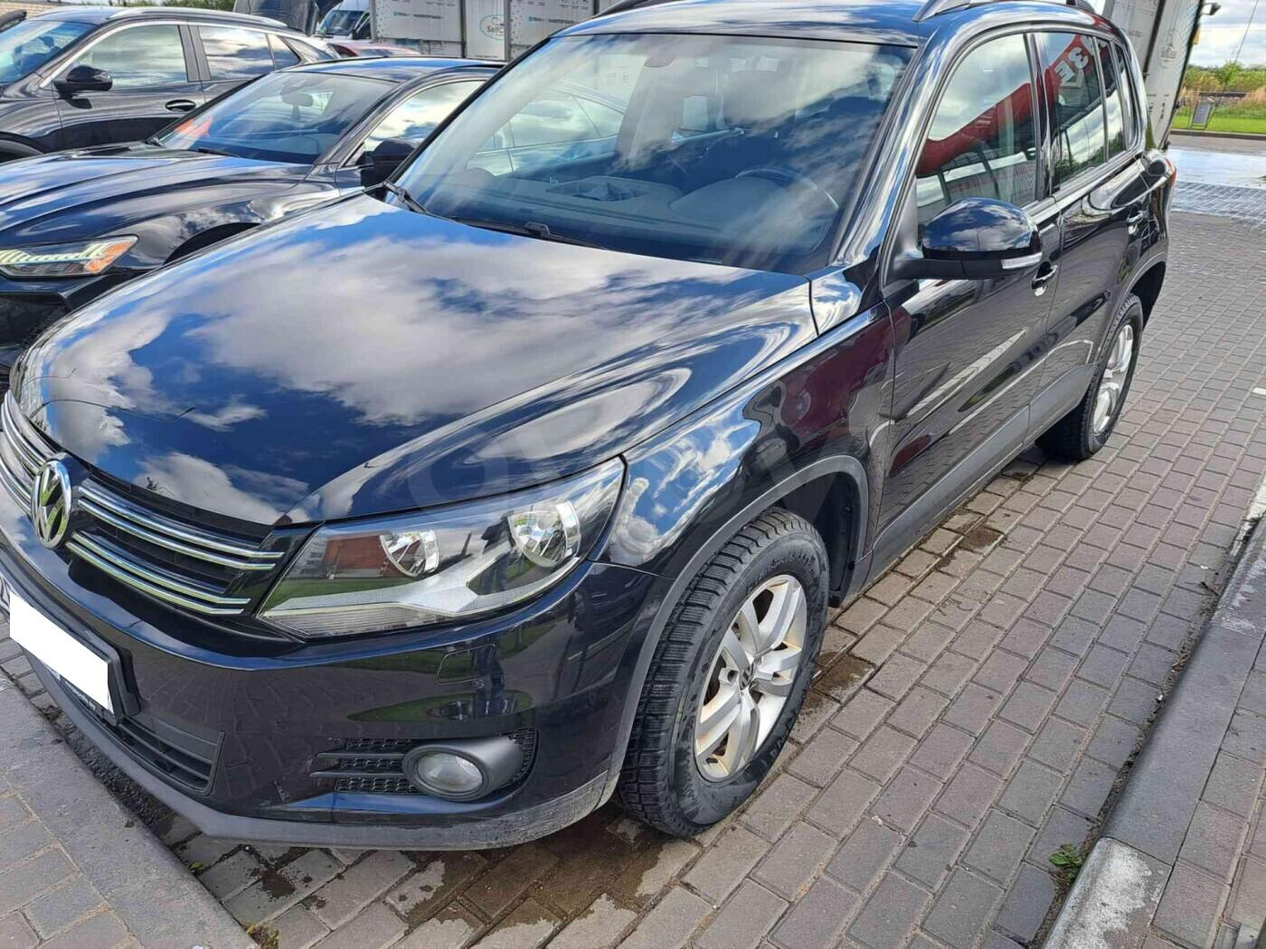Tiguan_2011-2018: (1, 0, 1186, 859)
